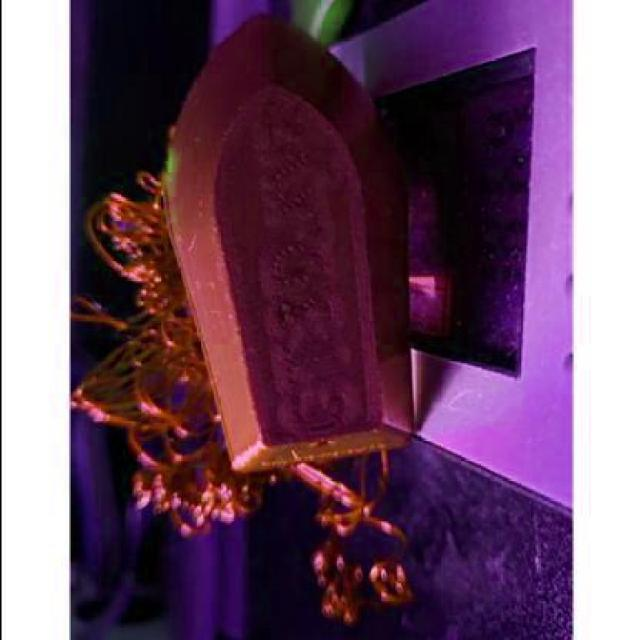spaghetti: (63, 173, 277, 541), (293, 448, 415, 628)
